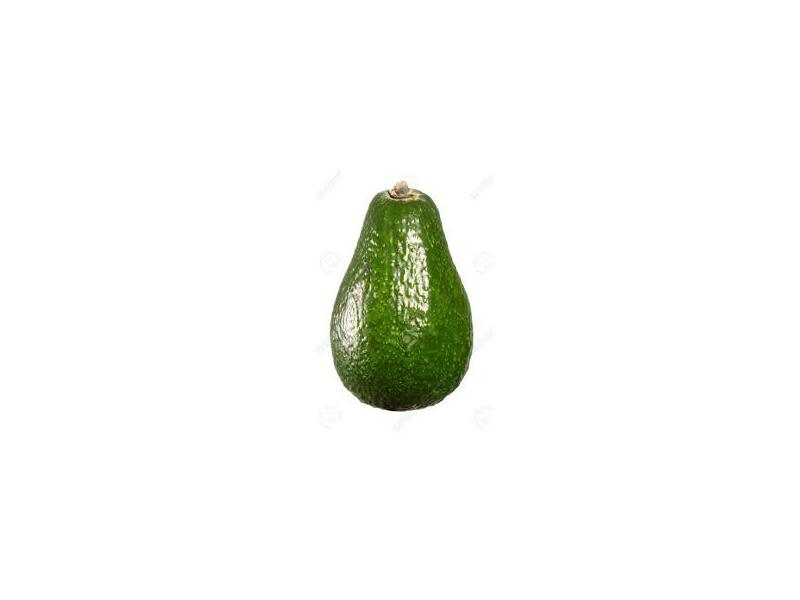abacate: (329, 185, 475, 412)
